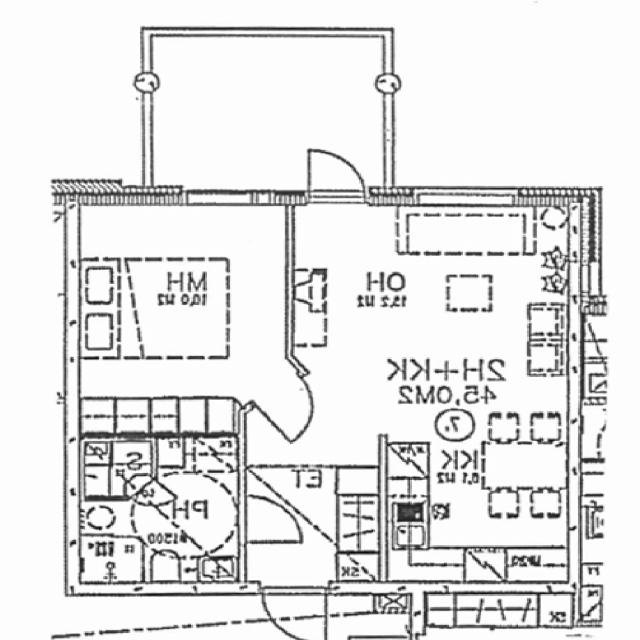door: (253, 372, 334, 440), (264, 582, 326, 640), (310, 142, 364, 206), (239, 496, 303, 542), (126, 477, 174, 518)
